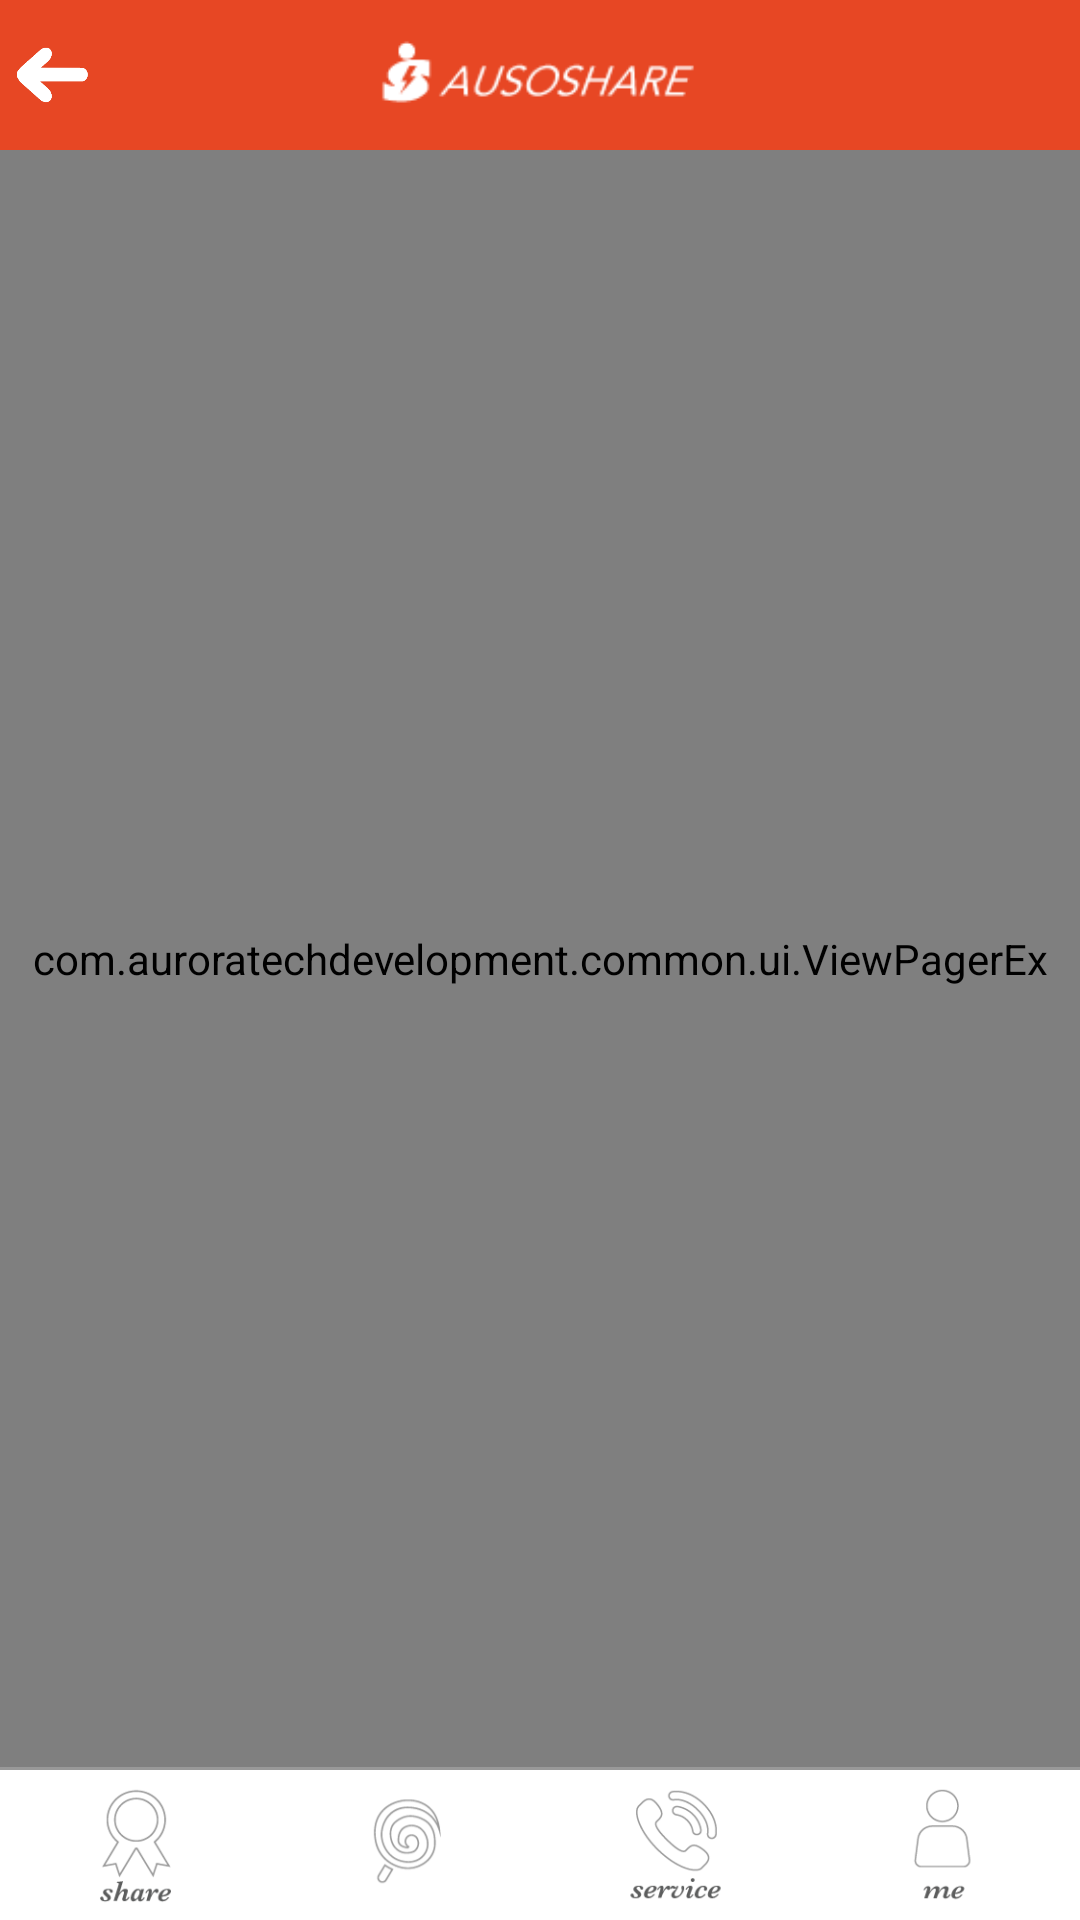

Named icons in this screenshot (1080px×1920px) and their centers, point (x, y):
bottombar contact: point (675, 1845)
left arrow: point (52, 75)
